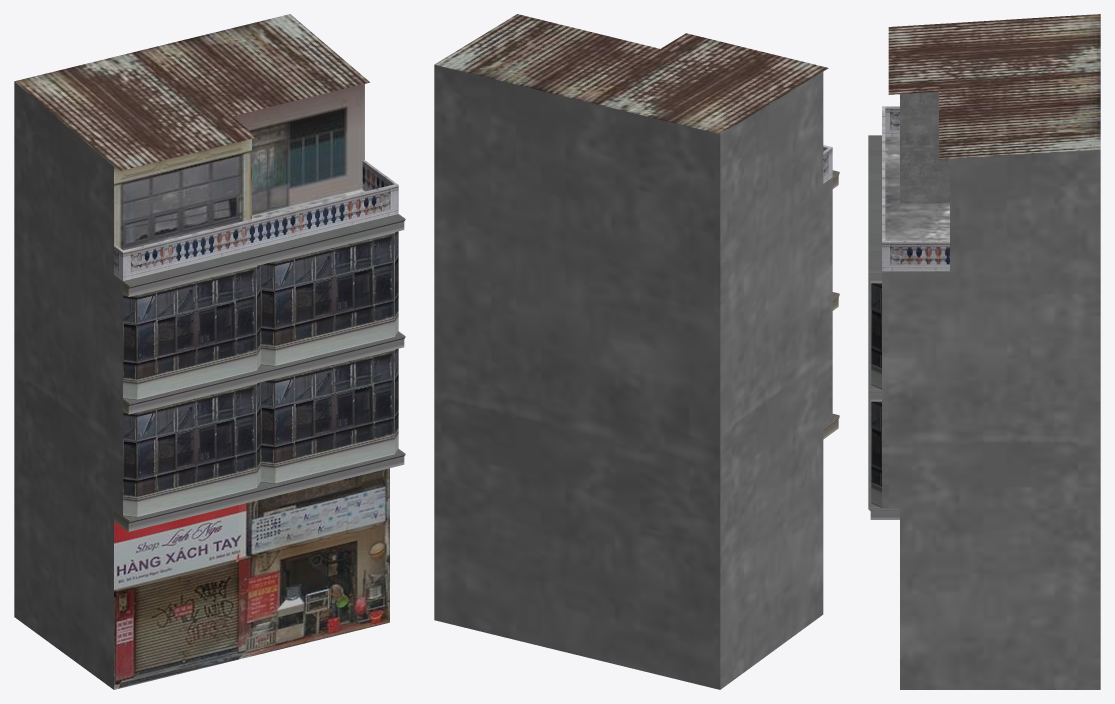
3 renders of one model, left to right at view 1: azimuth 30°, elevation 25°; view 2: azimuth 150°, elevation 25°; view 3: azimuth 270°, elevation 25°, orthographic. The views are drawn at different scales.
Visible parts, largest first — view 1: HN1006_HangXachTay; view 2: HN1006_HangXachTay; view 3: HN1006_HangXachTay.
Boxes of the visible parts, left/top/right/bottom form: HN1006_HangXachTay: left=14, top=14, right=405, bottom=689; HN1006_HangXachTay: left=434, top=14, right=839, bottom=689; HN1006_HangXachTay: left=868, top=14, right=1100, bottom=689.
Bounding box in the file's own units: 8 × 14.85 × 5.79.
1 material, 1 textured.
